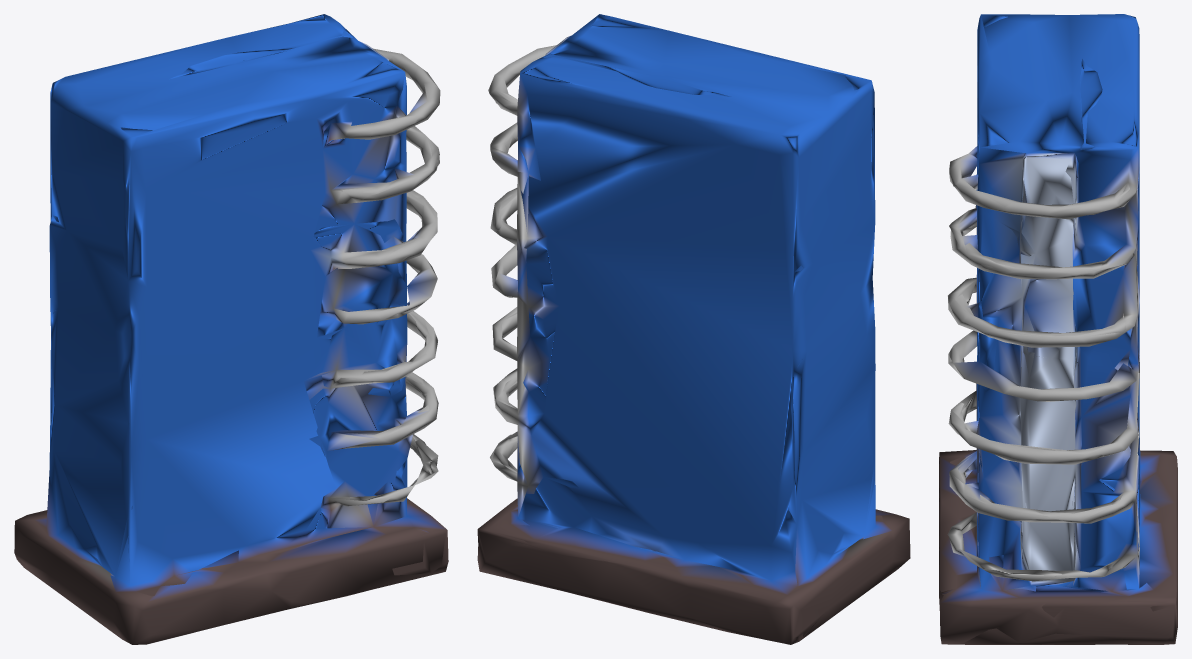
The model's file is gen3d-notebook-lod0.glb.
3 views of the same model, side by side, from view 1: azimuth 30°, elevation 25°; view 2: azimuth 150°, elevation 25°; view 3: azimuth 270°, elevation 25° (orthographic).
Visible parts, largest first — view 1: part_0; view 2: part_0; view 3: part_0.
Part boxes in pixels (bbox=[...]): part_0: bbox=[14, 14, 448, 644]; part_0: bbox=[477, 14, 910, 644]; part_0: bbox=[939, 14, 1177, 644].
Bounding box in the file's own units: 0.7423 × 1 × 0.4432.
